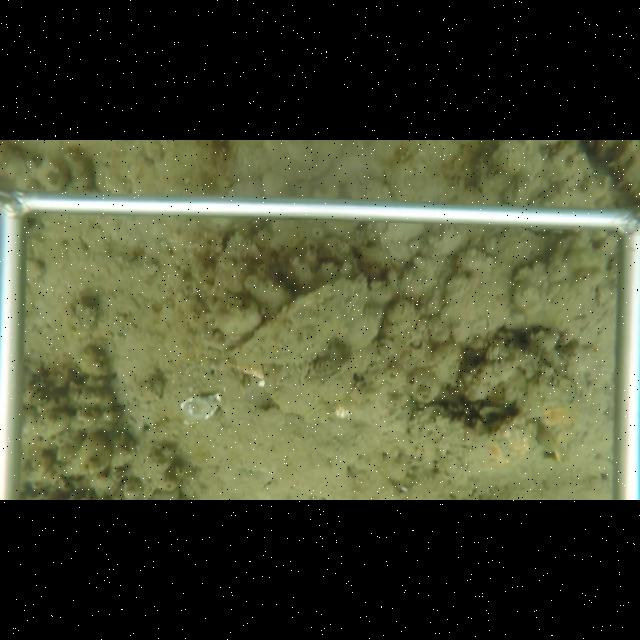Oyster-Closed: (213, 277, 369, 367), (405, 403, 540, 473)
